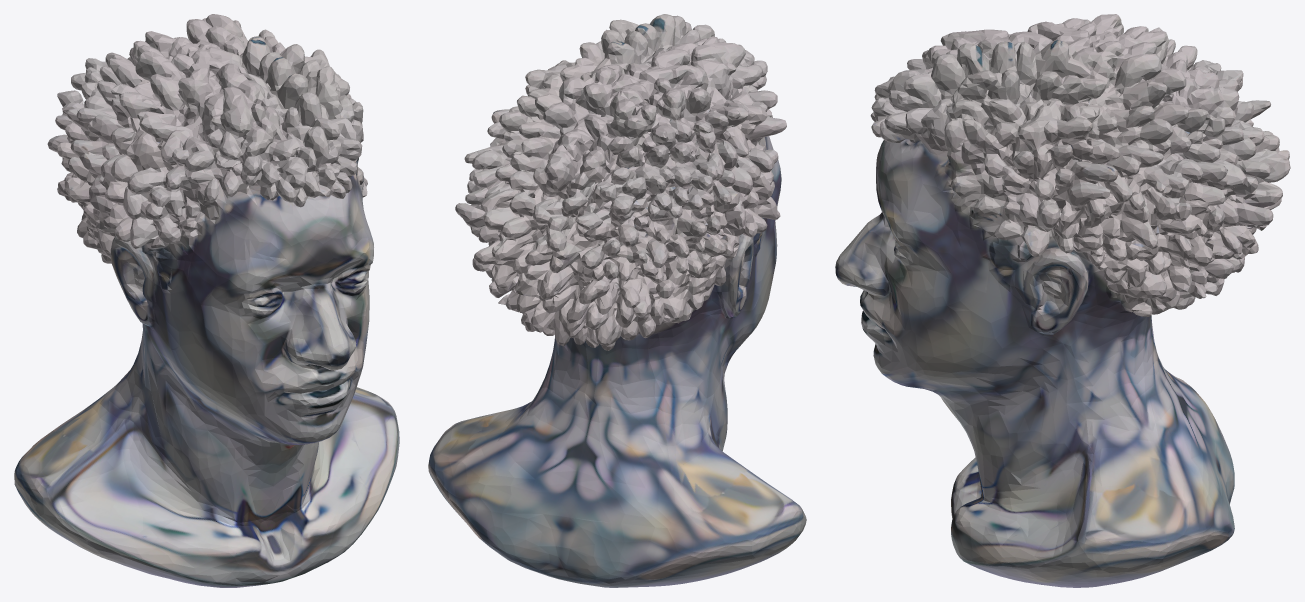
File: bust.glb
3 renders of one model, left to right at view 1: azimuth 30°, elevation 25°; view 2: azimuth 150°, elevation 25°; view 3: azimuth 270°, elevation 25°, orthographic. The views are drawn at different scales.
Visible parts, largest first — view 1: demo_textured.obj; view 2: demo_textured.obj; view 3: demo_textured.obj.
Boxes of the visible parts, left/top/right/bottom form: demo_textured.obj: left=14, top=14, right=399, bottom=587; demo_textured.obj: left=428, top=14, right=806, bottom=587; demo_textured.obj: left=835, top=14, right=1290, bottom=587.
Size of the model in its own units: 1.44 by 1.99 by 1.55.
Materials: 1 (1 with a texture image).
